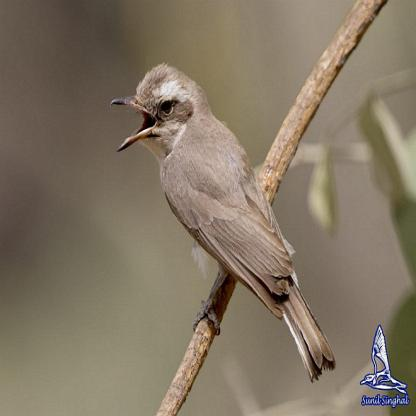Burung: (110, 62, 335, 382)
